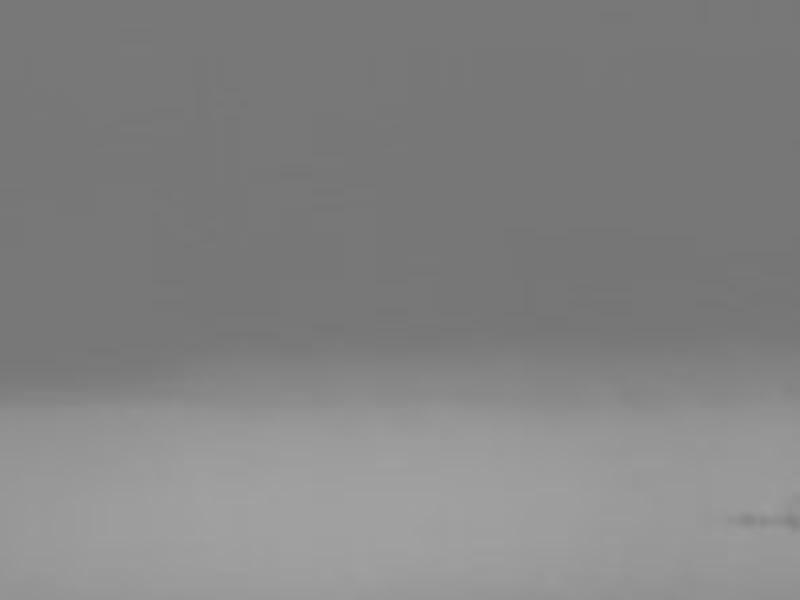defect: (760, 511, 797, 533), (732, 511, 754, 527)
